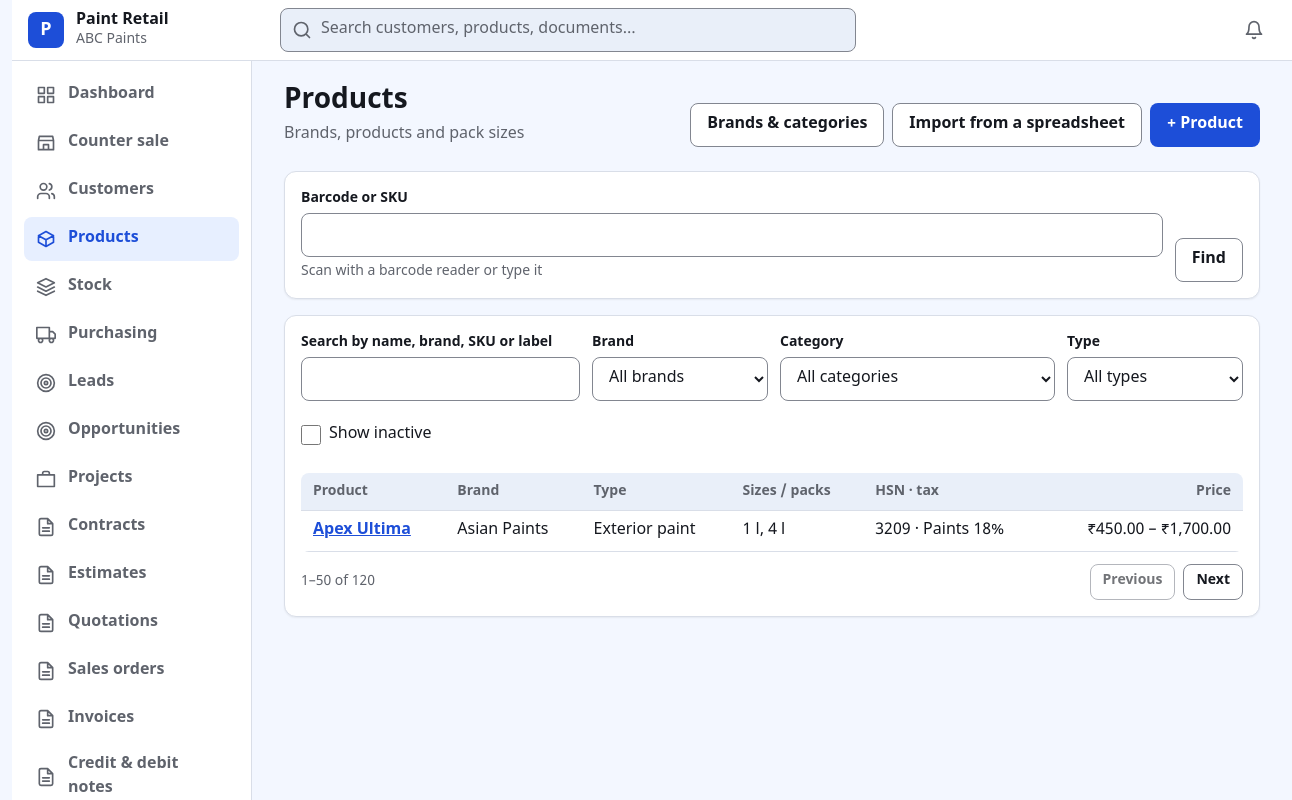
Test: ProductsPage › pages through a long catalogue
Check: the navigation bar named "Product pages" shows "1–50 of 120", box [301,572,375,591]
What coordinates should you click on to do the following:
click the button "Next"
I would click on:
 (1213, 582)
Its box is [1184,564,1243,600].
(page scrolled)
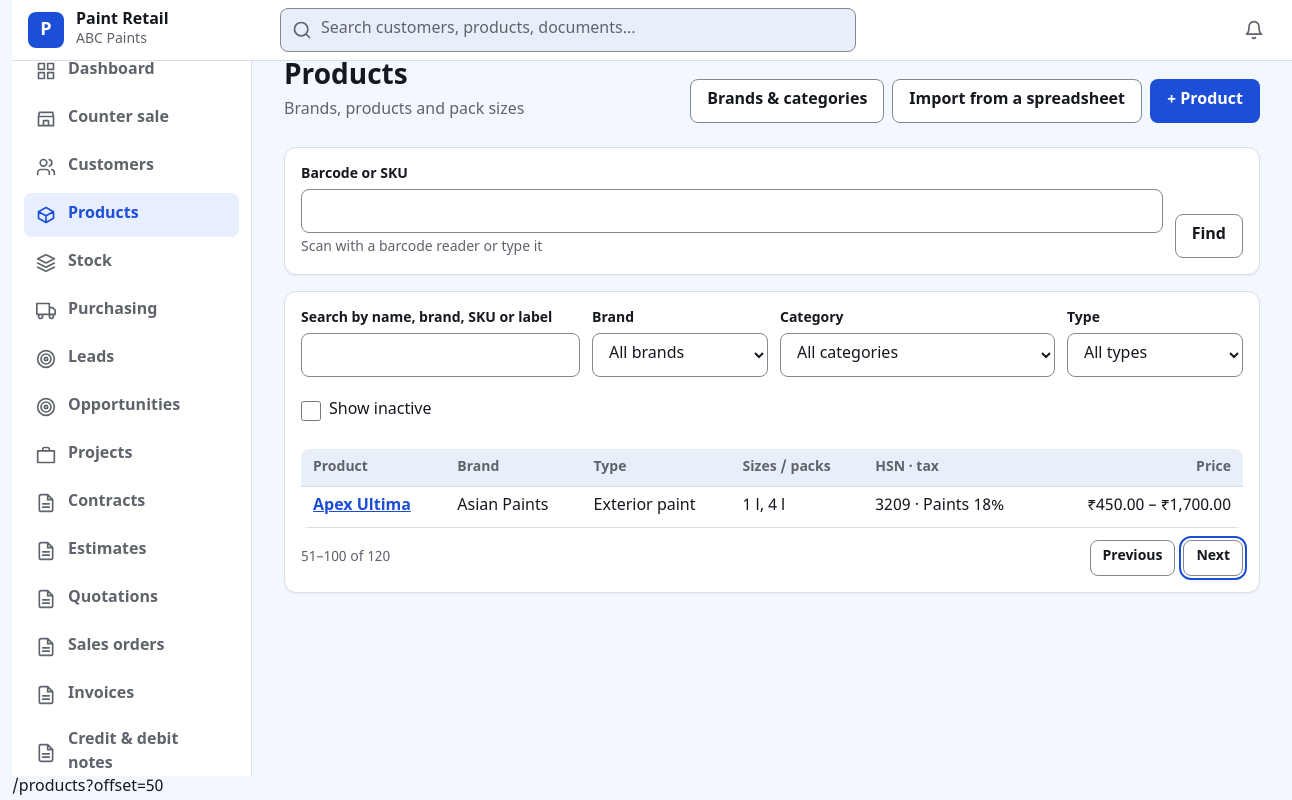
Check: the text with test id "location" reads "/products?offset=50", box [12,777,163,798]
